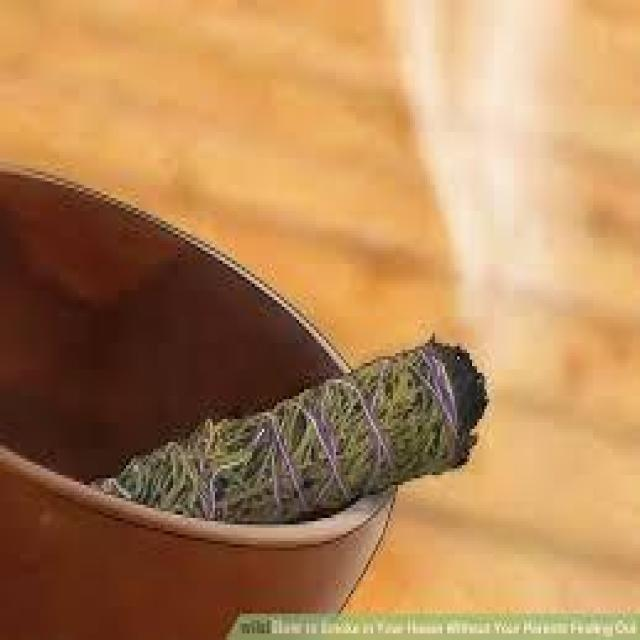Smoke: (406, 12, 604, 340)
